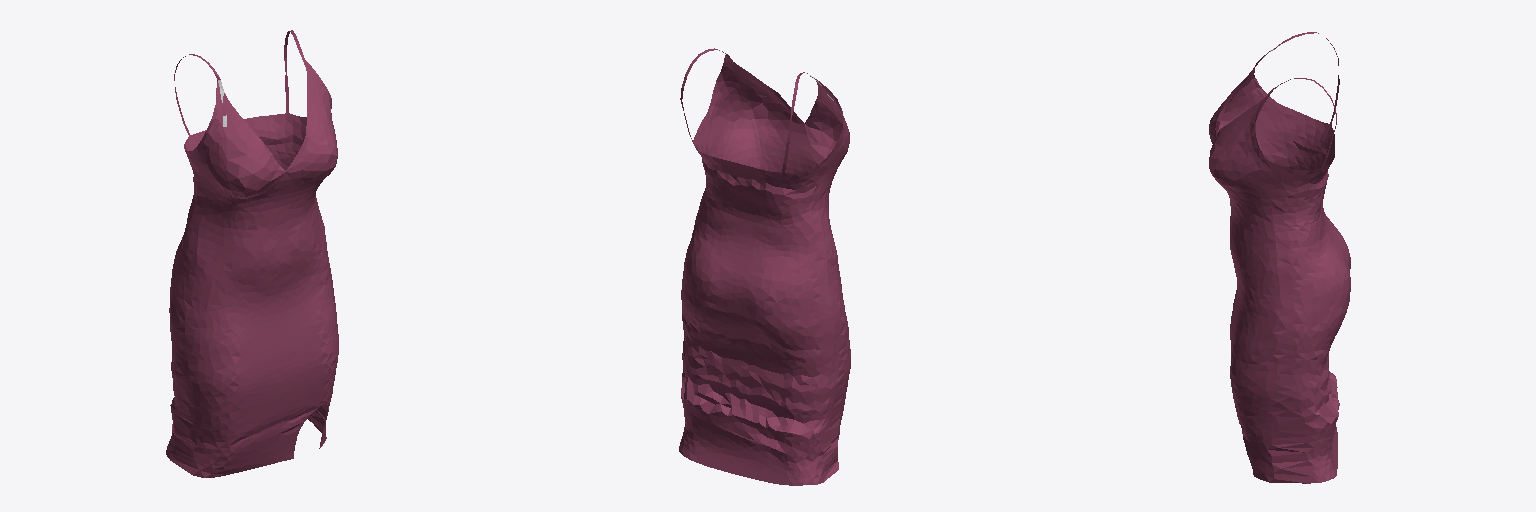
3 views of the same model, side by side, from view 1: azimuth 30°, elevation 25°; view 2: azimuth 150°, elevation 25°; view 3: azimuth 270°, elevation 25° (orthographic).
Visible parts, largest first — view 1: medium_roseDress_noinside:polySurface2 medium_roseDress_noinside; view 2: medium_roseDress_noinside:polySurface2 medium_roseDress_noinside; view 3: medium_roseDress_noinside:polySurface2 medium_roseDress_noinside.
Boxes of the visible parts, x1,y1,x2,y2 form: medium_roseDress_noinside:polySurface2 medium_roseDress_noinside: [166, 30, 338, 477]; medium_roseDress_noinside:polySurface2 medium_roseDress_noinside: [679, 48, 850, 485]; medium_roseDress_noinside:polySurface2 medium_roseDress_noinside: [1209, 32, 1350, 483].
Size of the model in its own units: 3.7 by 9.38 by 3.
Materials: 10 (1 with a texture image).